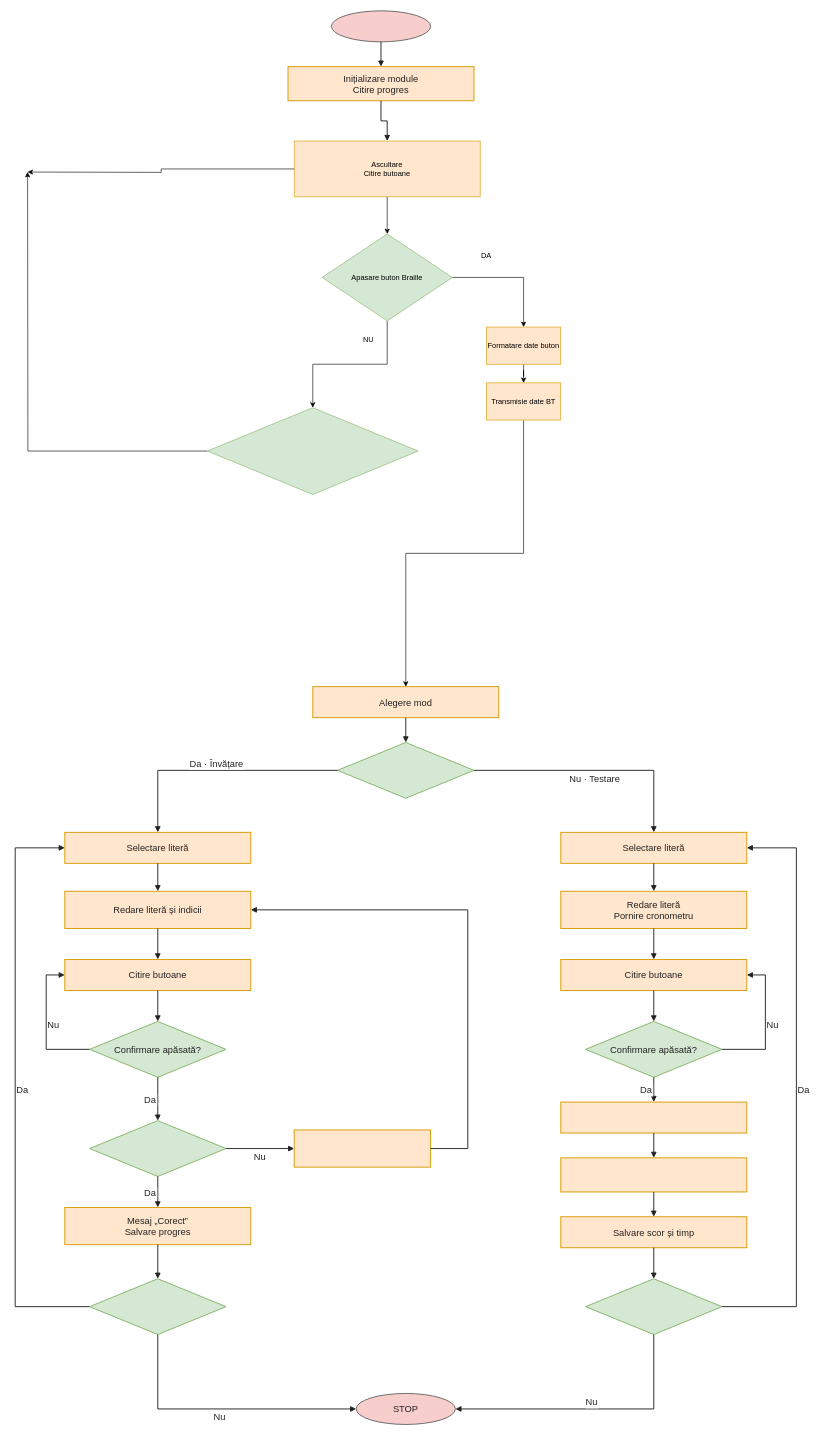
The diagram is 822 pixels wide and 1436 high, and some of its shapes have lost their labels. Each missing label, with the box of its shape:
Alt exercițiu?: (585, 1278, 722, 1335)
Altă literă?: (89, 1278, 226, 1335)
Mesaj „Greșit” Explicare soluție: (293, 1129, 431, 1167)
Mod buton apasat?: (207, 407, 418, 494)
Mod învățare?: (337, 742, 474, 798)
Oprire cronometru: (560, 1101, 747, 1133)
Răspuns corect?: (89, 1120, 226, 1177)
START: (331, 10, 431, 42)
Verificare răspuns Afișare rezultat: (560, 1157, 747, 1192)
